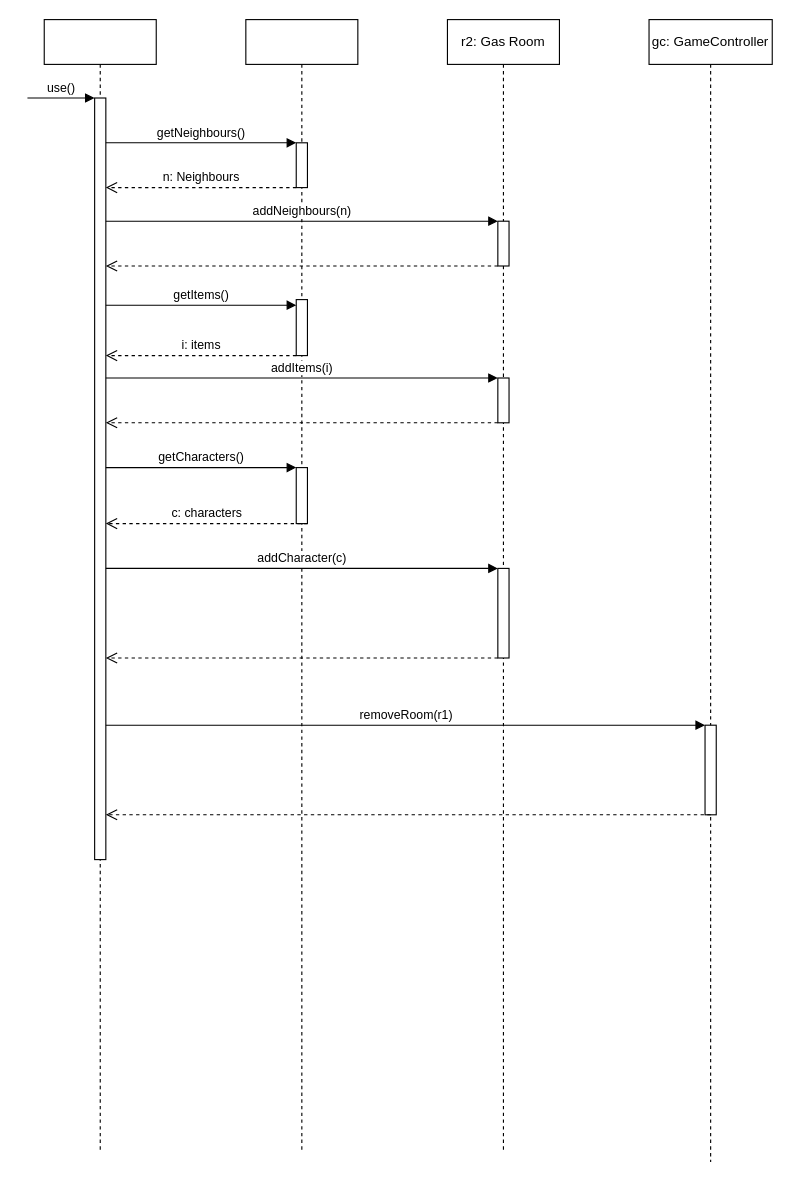
The diagram is 792 pixels wide and 1182 high, and some of its shapes have lost their labels. Here are the shapes that lost their labels. From the top down, the box of each, then its label:
(43, 18, 156, 1151): c: Camambert
(245, 18, 358, 1151): r1: Simple Room
